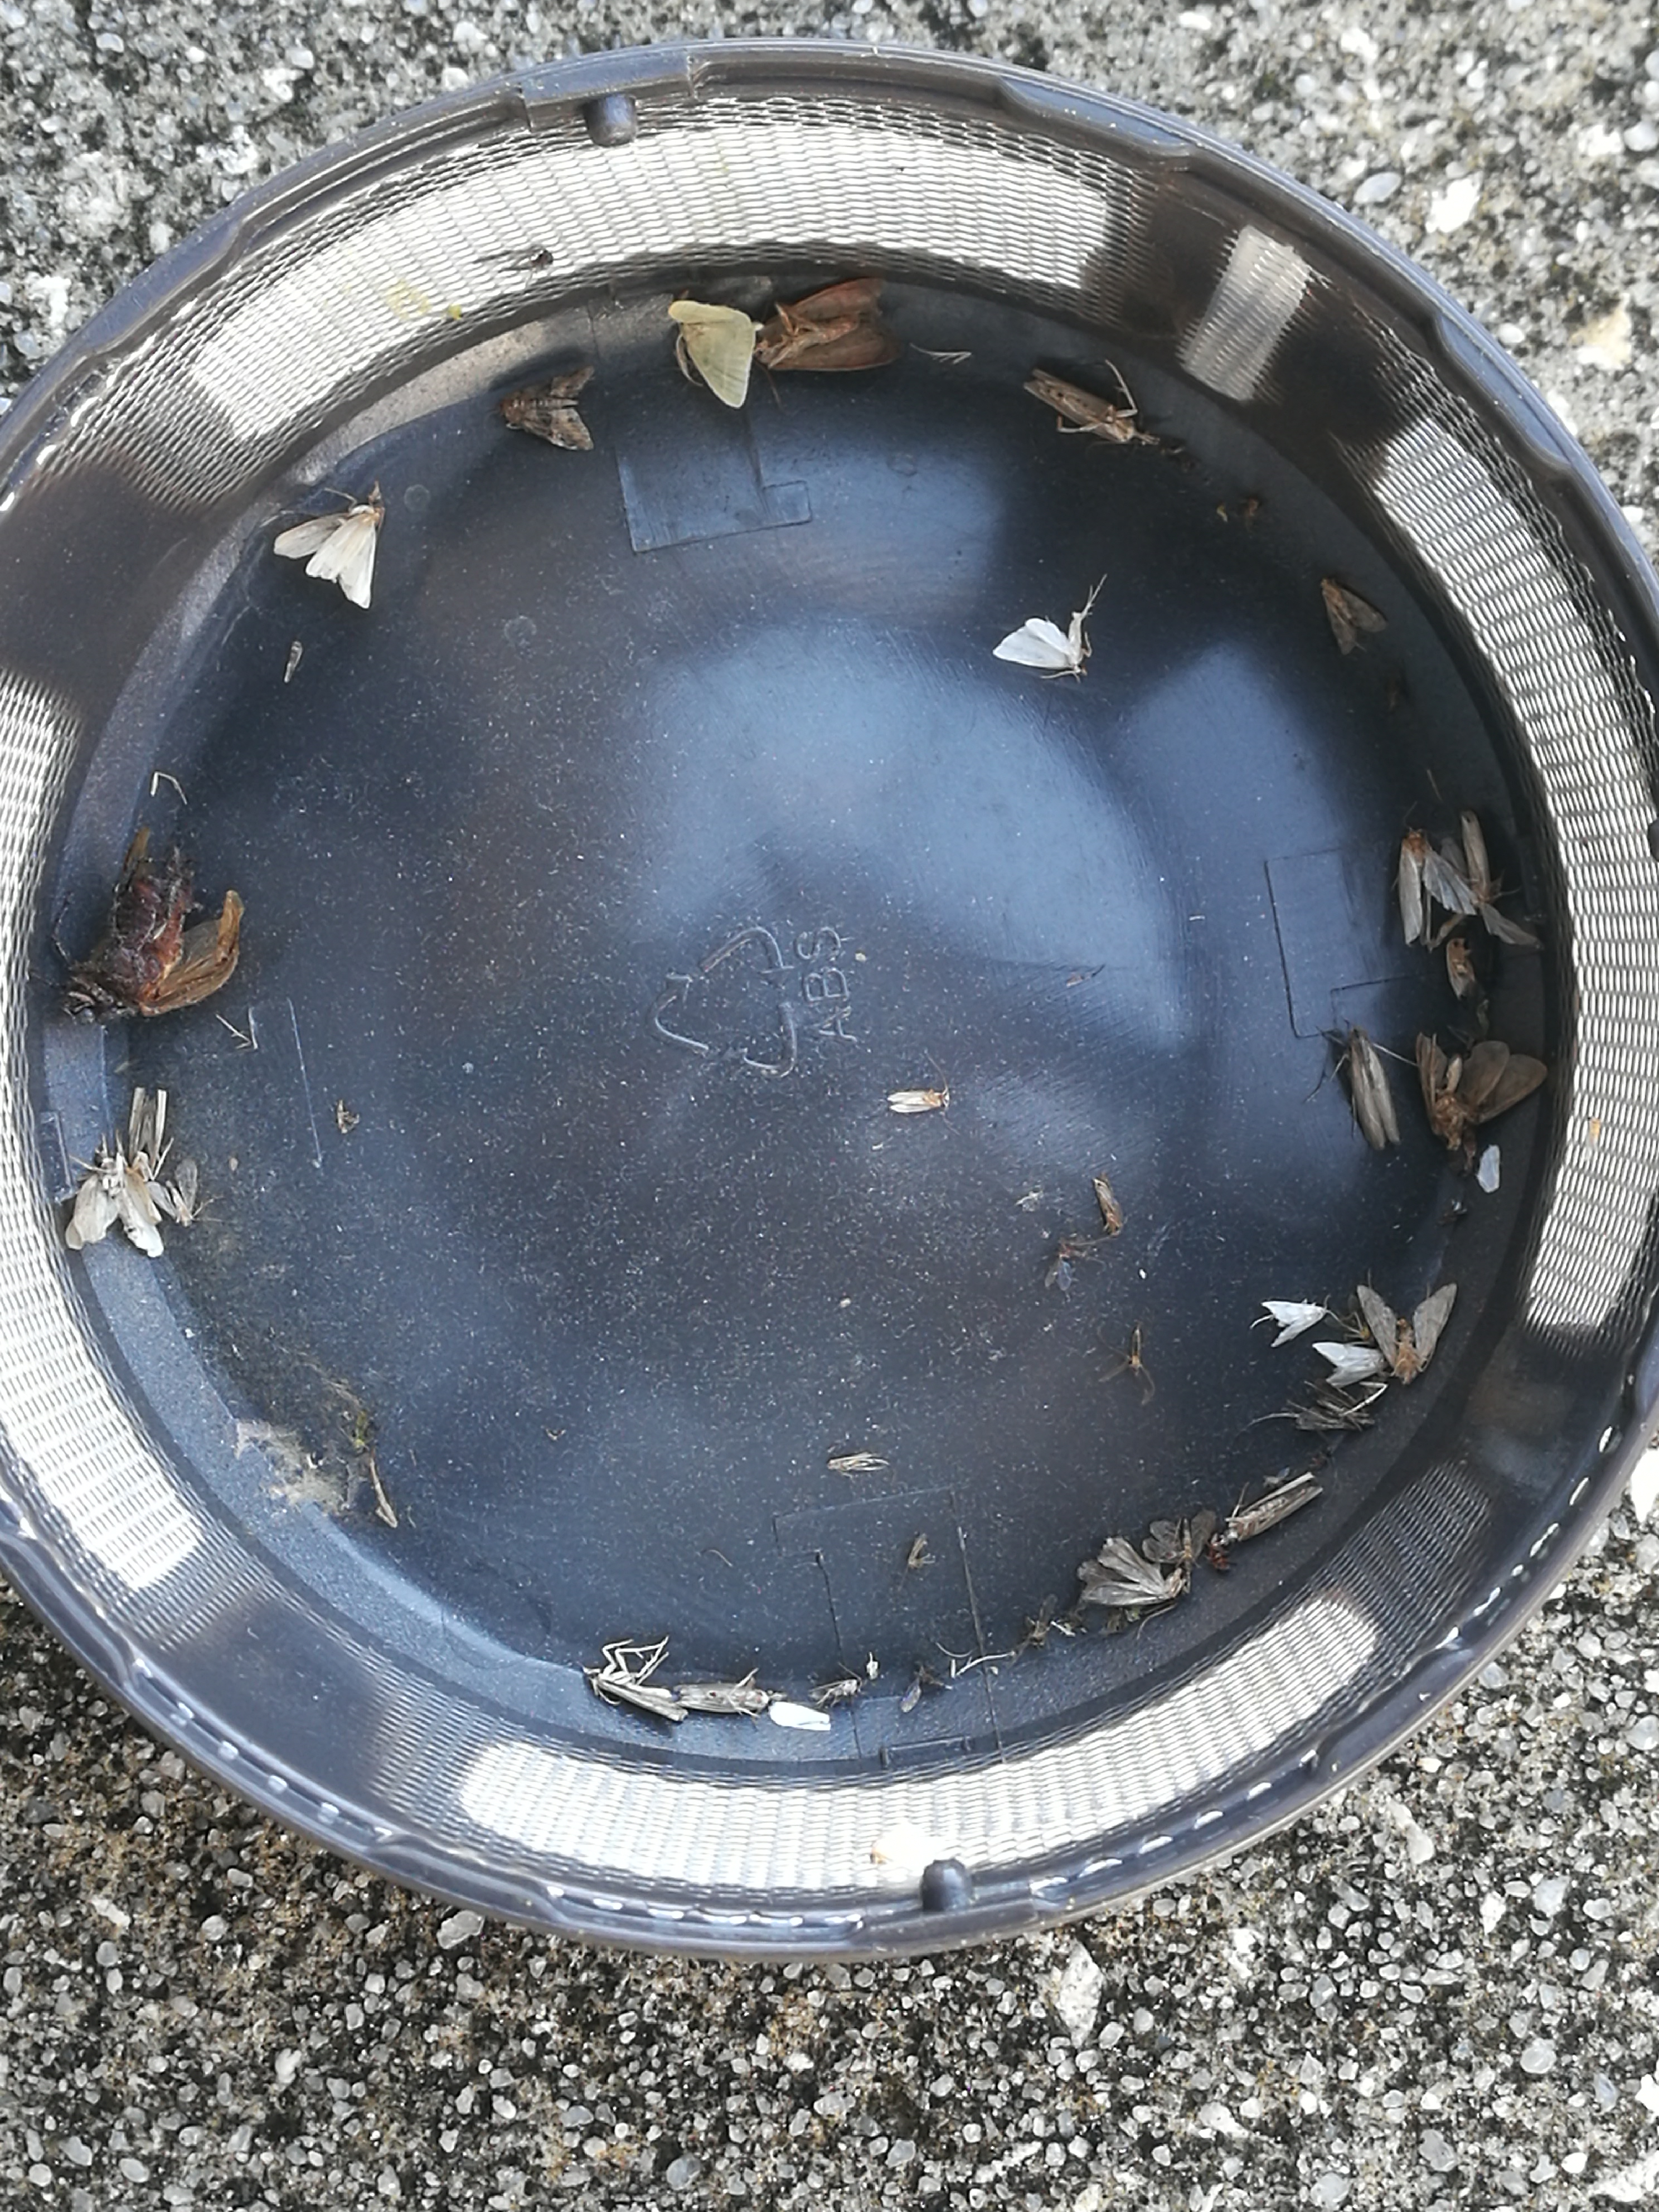beetle: (61, 860, 188, 1024)
mosquito: (1025, 369, 1134, 442), (1218, 1472, 1321, 1543), (584, 1667, 688, 1724), (1351, 1031, 1398, 1151), (129, 1089, 166, 1181), (673, 1681, 767, 1716), (1459, 812, 1493, 900), (1445, 939, 1476, 998), (1093, 1177, 1121, 1233), (807, 1677, 859, 1703), (889, 1090, 946, 1113), (826, 1454, 875, 1470)
moth: (1415, 1033, 1547, 1146), (753, 277, 903, 371), (274, 503, 383, 610), (63, 1150, 162, 1259), (1358, 1284, 1457, 1383), (667, 301, 753, 408), (1399, 829, 1476, 942), (504, 368, 594, 449), (1075, 1540, 1183, 1602), (1321, 575, 1389, 655), (992, 611, 1082, 669), (1143, 1510, 1215, 1564), (1295, 1383, 1373, 1430), (146, 1160, 197, 1226), (1316, 1343, 1384, 1386), (1263, 1299, 1326, 1346)
